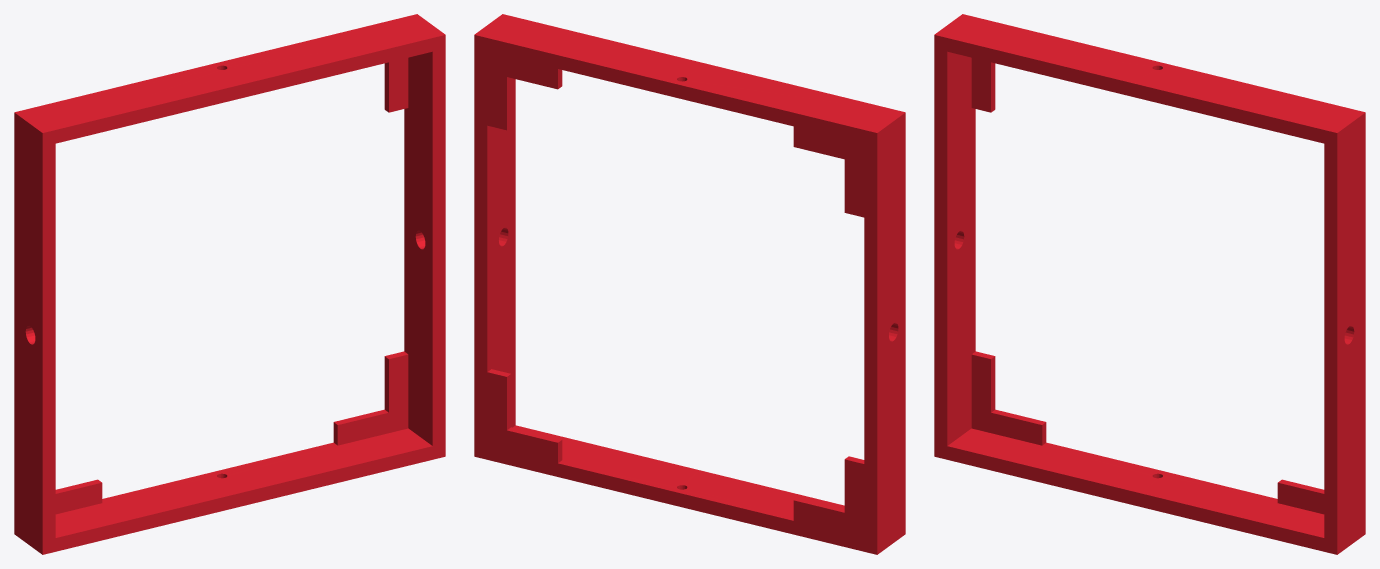
The model's file is innerRing.obj.
The picture shows the model from 3 angles, left to right: view 1: azimuth 30°, elevation 25°; view 2: azimuth 150°, elevation 25°; view 3: azimuth 330°, elevation 25°; orthographic projection.
Visible parts, largest first — view 1: obj_0; view 2: obj_0; view 3: obj_0.
Part boxes in pixels (x1,y1,x2,y2): obj_0: (14,14,445,554); obj_0: (474,14,905,554); obj_0: (934,14,1365,554).
Bounding box in the file's own units: 154 × 154 × 18.81.
